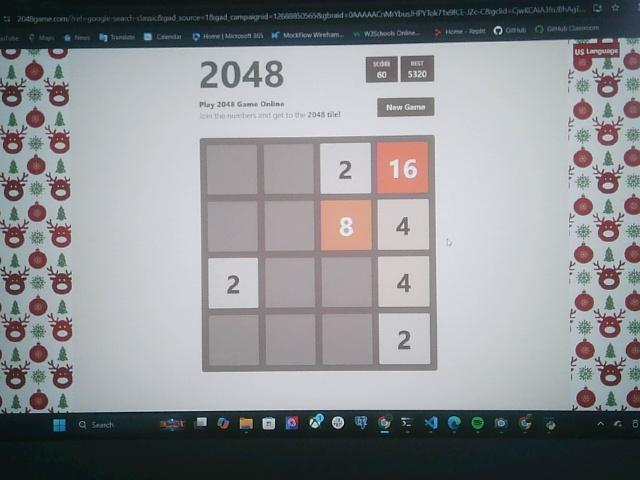best_score_box: (401, 55, 435, 83)
board: (201, 136, 437, 371)
button: (378, 97, 434, 118)
score_box: (366, 57, 397, 82)
tile: (378, 312, 433, 365), (320, 198, 373, 251), (376, 142, 430, 194), (377, 198, 429, 250), (378, 256, 430, 307), (321, 143, 371, 194), (207, 257, 259, 306)
